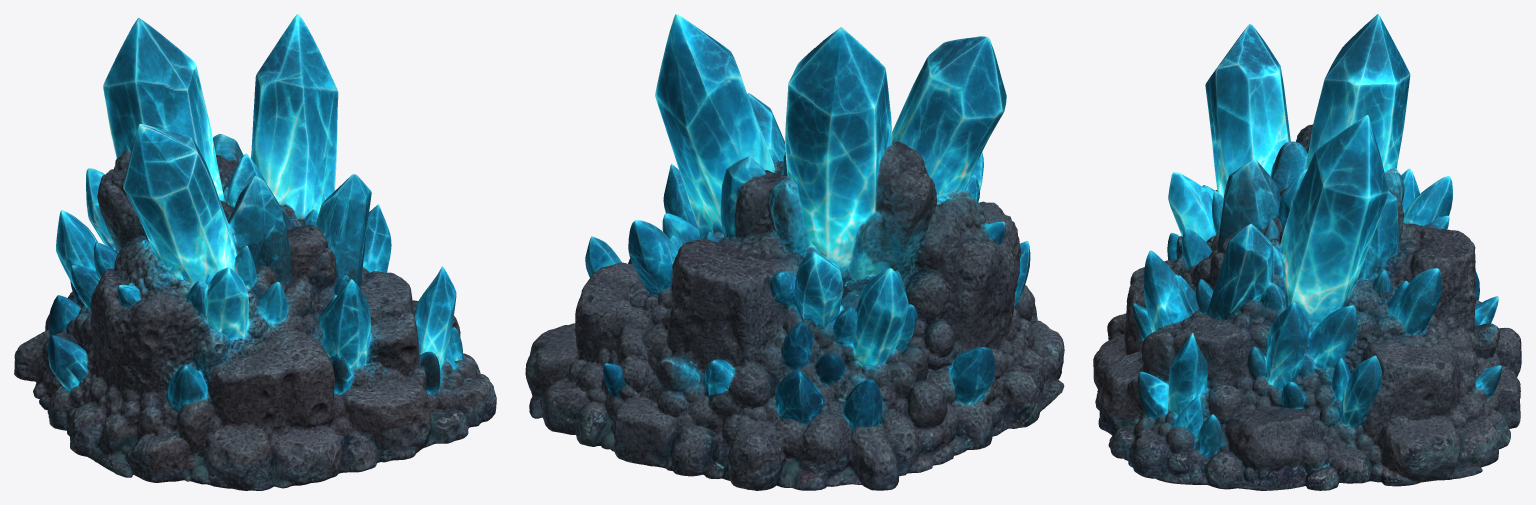
File: prop-crystal-cluster.glb
3 renders of one model, left to right at view 1: azimuth 30°, elevation 25°; view 2: azimuth 150°, elevation 25°; view 3: azimuth 270°, elevation 25°, orthographic. The views are drawn at different scales.
Size of the model in its own units: 1.9 by 1.72 by 1.89.
1 material, 1 textured.
